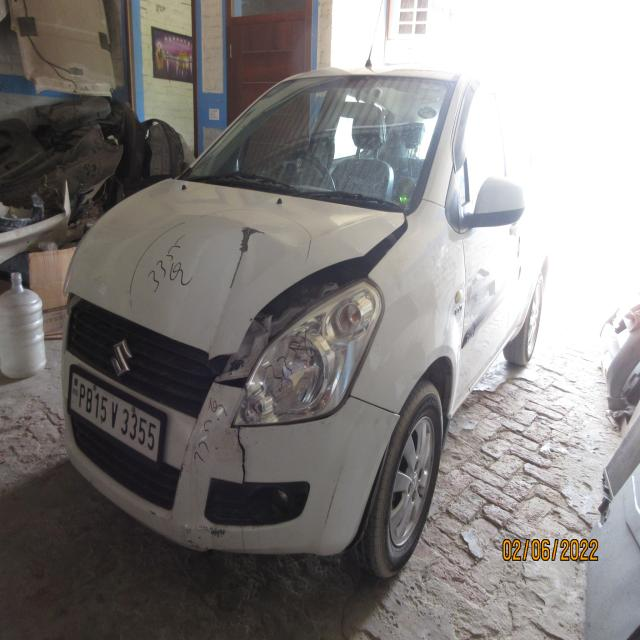damage: (157, 203, 313, 348), (168, 411, 206, 521), (207, 345, 267, 399), (223, 416, 269, 484), (318, 455, 353, 532), (181, 522, 231, 544)
